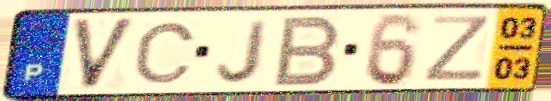6: (361, 10, 426, 89)
B: (269, 13, 345, 89)
C: (131, 20, 199, 86)
J: (214, 18, 273, 85)
V: (69, 15, 140, 92)
Z: (420, 14, 494, 84)
